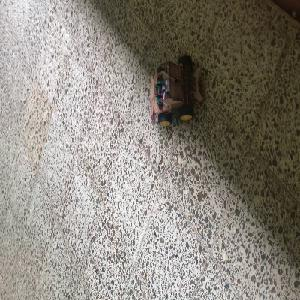Robot: (151, 55, 205, 126)
